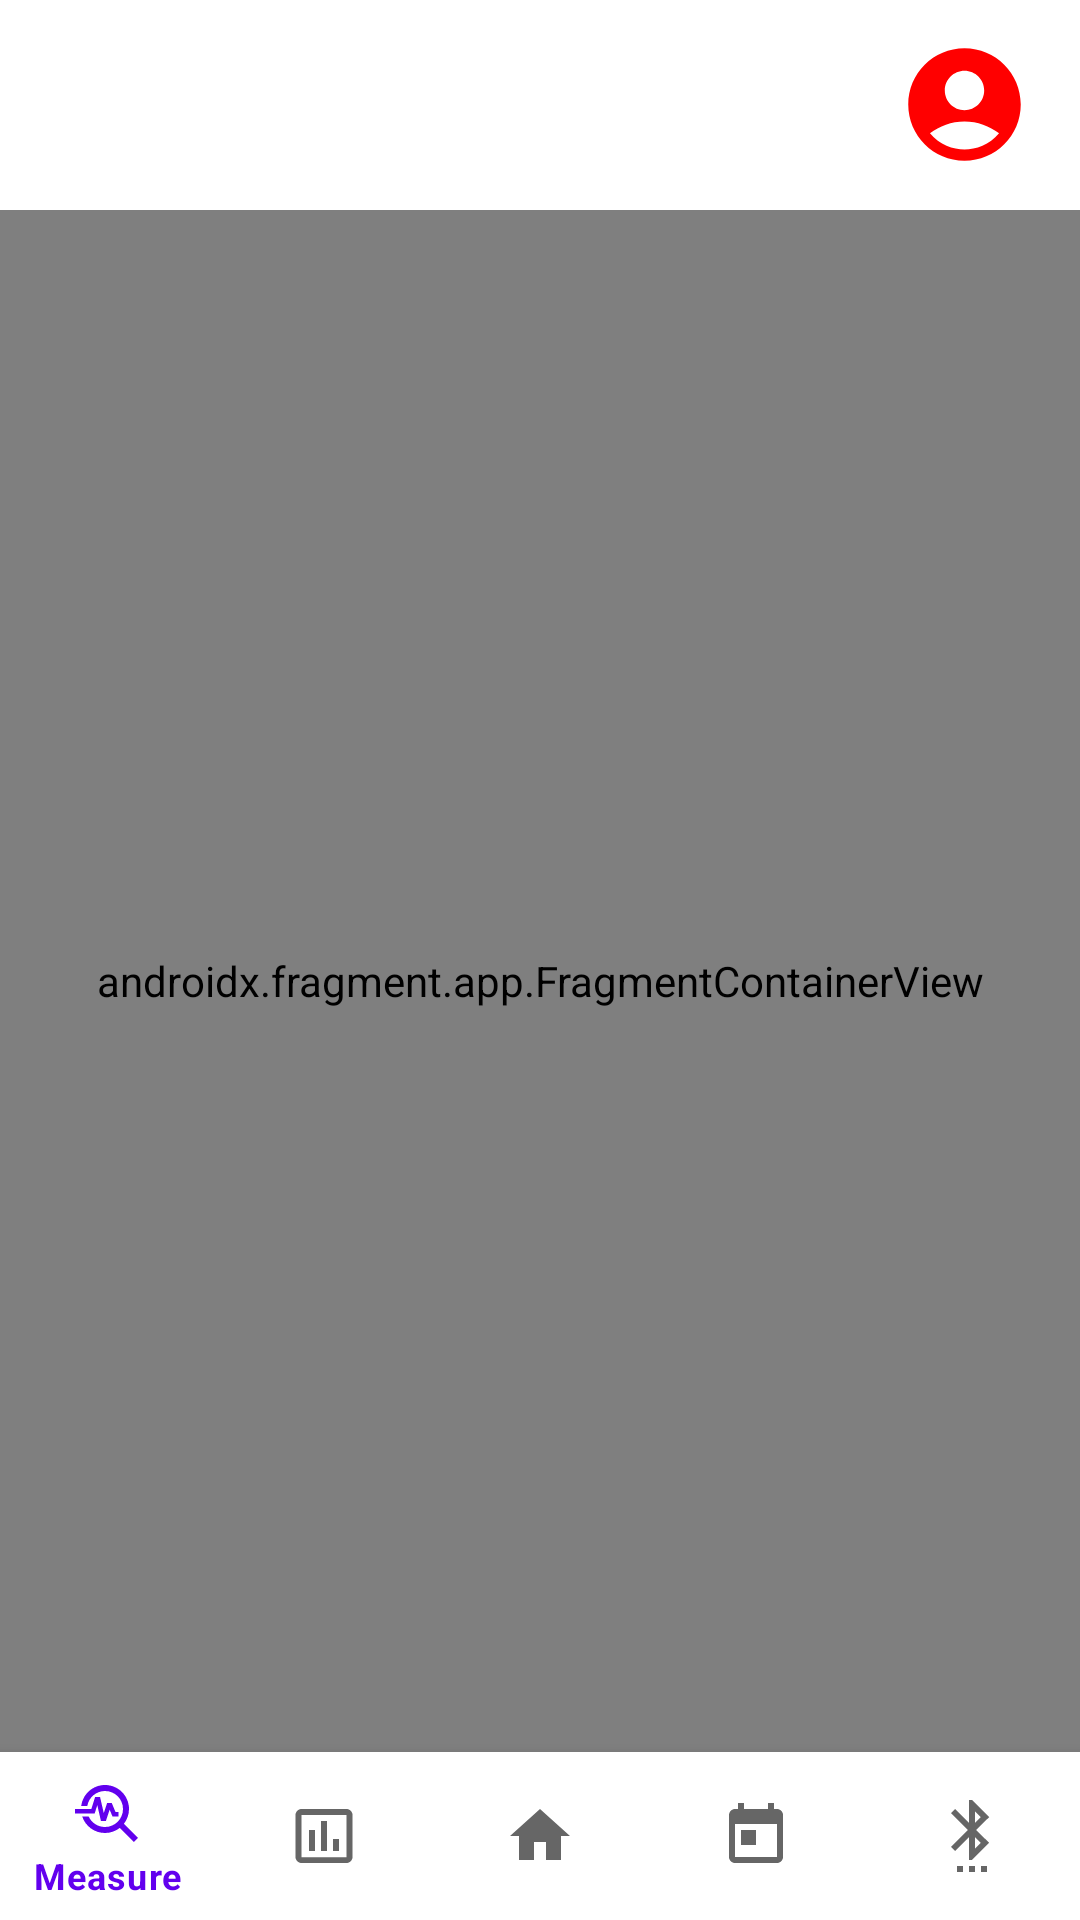

Named icons in this screenshot (1080w x 1920h) and their centers, (x,y):
account: (964,104)
